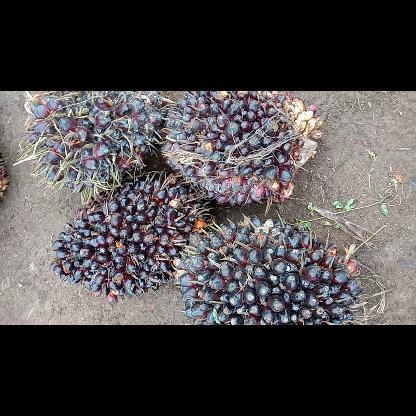TBS mentah: (48, 168, 212, 304), (171, 214, 368, 324), (158, 90, 326, 209), (22, 90, 164, 196)
